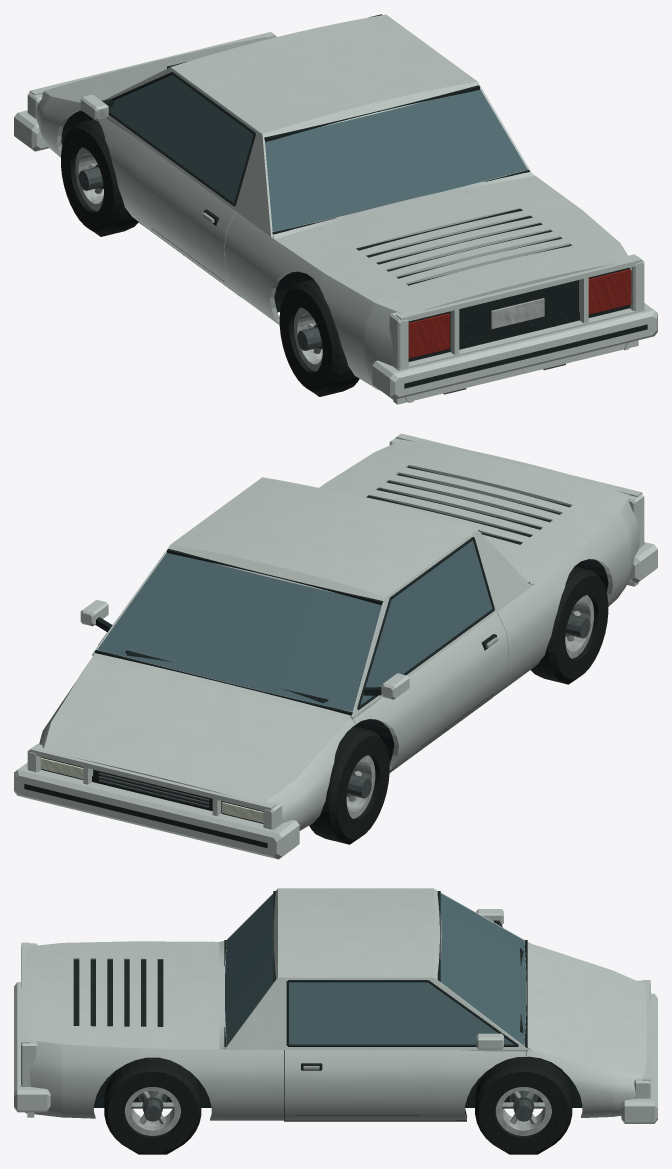
The picture shows the model from 3 angles, top to bottom: view 1: azimuth 30°, elevation 25°; view 2: azimuth 150°, elevation 25°; view 3: azimuth 270°, elevation 25°; orthographic projection. The views are drawn at different scales.
Visible parts, largest first — view 1: B028-11_body_shell_paint.001, B028-11_glazing_glass, B028-11_roof_paint, B028-11_body_shell_paint, B028-11_door_leaf_paint_front_door-1, B028-11_glazing_glass_front_door-1, B028-11_bumper_paint, B028-11_wheel_rubber_P-0.7750_-1.2000_0.3200, B028-11_wheel_rubber_P-0.7750_1.2300_0.3200, B028-11_body_shell_dark, B028-11_lamps_red, B028-11_trim_dark (+6 smaller); view 2: B028-11_body_shell_paint.001, B028-11_glazing_glass, B028-11_roof_paint, B028-11_body_shell_paint, B028-11_door_leaf_paint_front_door-1, B028-11_bumper_paint, B028-11_glazing_glass_front_door-1, B028-11_wheel_rubber_P-0.7750_1.2300_0.3200, B028-11_wheel_rubber_P-0.7750_-1.2000_0.3200, B028-11_trim_dark, B028-11_trim_dark_front_door-1, B028-11_equipment_dark (+7 smaller); view 3: B028-11_body_shell_paint.001, B028-11_body_shell_paint, B028-11_door_leaf_paint_front_door1, B028-11_roof_paint, B028-11_glazing_glass, B028-11_glazing_glass_front_door1, B028-11_wheel_rubber_P0.7750_1.2300_0.3200, B028-11_wheel_rubber_P0.7750_-1.2000_0.3200, B028-11_bumper_paint, B028-11_equipment_dark, B028-11_trim_dark_front_door1, B028-11_wheel_alloy_P0.7750_1.2300_0.3200 (+4 smaller).
Part boxes in pixels (x1=…): B028-11_body_shell_paint.001: x1=27, y1=32, x2=644, y2=404; B028-11_glazing_glass: x1=264, y1=89, x2=527, y2=231; B028-11_roof_paint: x1=171, y1=14, x2=477, y2=134; B028-11_body_shell_paint: x1=36, y1=91, x2=632, y2=402; B028-11_door_leaf_paint_front_door-1: x1=98, y1=117, x2=237, y2=294; B028-11_glazing_glass_front_door-1: x1=108, y1=75, x2=253, y2=202; B028-11_bumper_paint: x1=14, y1=110, x2=657, y2=399; B028-11_wheel_rubber_P-0.7750_-1.2000_0.3200: x1=279, y1=279, x2=359, y2=396; B028-11_wheel_rubber_P-0.7750_1.2300_0.3200: x1=61, y1=119, x2=138, y2=236; B028-11_body_shell_dark: x1=408, y1=280, x2=629, y2=361; B028-11_lamps_red: x1=408, y1=269, x2=631, y2=358; B028-11_trim_dark: x1=101, y1=14, x2=647, y2=388; B028-11_body_shell_paint.001: x1=27, y1=433, x2=644, y2=829; B028-11_glazing_glass: x1=97, y1=553, x2=382, y2=711; B028-11_roof_paint: x1=171, y1=477, x2=477, y2=596; B028-11_body_shell_paint: x1=39, y1=495, x2=639, y2=830; B028-11_door_leaf_paint_front_door-1: x1=353, y1=612, x2=508, y2=771; B028-11_bumper_paint: x1=14, y1=542, x2=657, y2=859; B028-11_glazing_glass_front_door-1: x1=360, y1=540, x2=492, y2=705; B028-11_wheel_rubber_P-0.7750_1.2300_0.3200: x1=309, y1=726, x2=389, y2=844; B028-11_wheel_rubber_P-0.7750_-1.2000_0.3200: x1=531, y1=566, x2=608, y2=684; B028-11_trim_dark: x1=24, y1=530, x2=529, y2=848; B028-11_trim_dark_front_door-1: x1=357, y1=537, x2=496, y2=710; B028-11_equipment_dark: x1=366, y1=466, x2=570, y2=544; B028-11_body_shell_paint.001: x1=20, y1=888, x2=650, y2=1117; B028-11_body_shell_paint: x1=25, y1=1040, x2=643, y2=1120; B028-11_door_leaf_paint_front_door1: x1=284, y1=1047, x2=526, y2=1120; B028-11_roof_paint: x1=278, y1=888, x2=433, y2=977; B028-11_glazing_glass: x1=225, y1=893, x2=526, y2=1045; B028-11_glazing_glass_front_door1: x1=289, y1=982, x2=513, y2=1044; B028-11_wheel_rubber_P0.7750_1.2300_0.3200: x1=475, y1=1056, x2=572, y2=1154; B028-11_wheel_rubber_P0.7750_-1.2000_0.3200: x1=104, y1=1057, x2=201, y2=1154; B028-11_bumper_paint: x1=14, y1=982, x2=657, y2=1123; B028-11_equipment_dark: x1=73, y1=959, x2=163, y2=1026; B028-11_trim_dark_front_door1: x1=286, y1=980, x2=518, y2=1070; B028-11_wheel_alloy_P0.7750_1.2300_0.3200: x1=495, y1=1087, x2=551, y2=1135.
Bounding box in the file's own units: 2.02 × 1.23 × 4.22.
9 materials, 9 textured.
